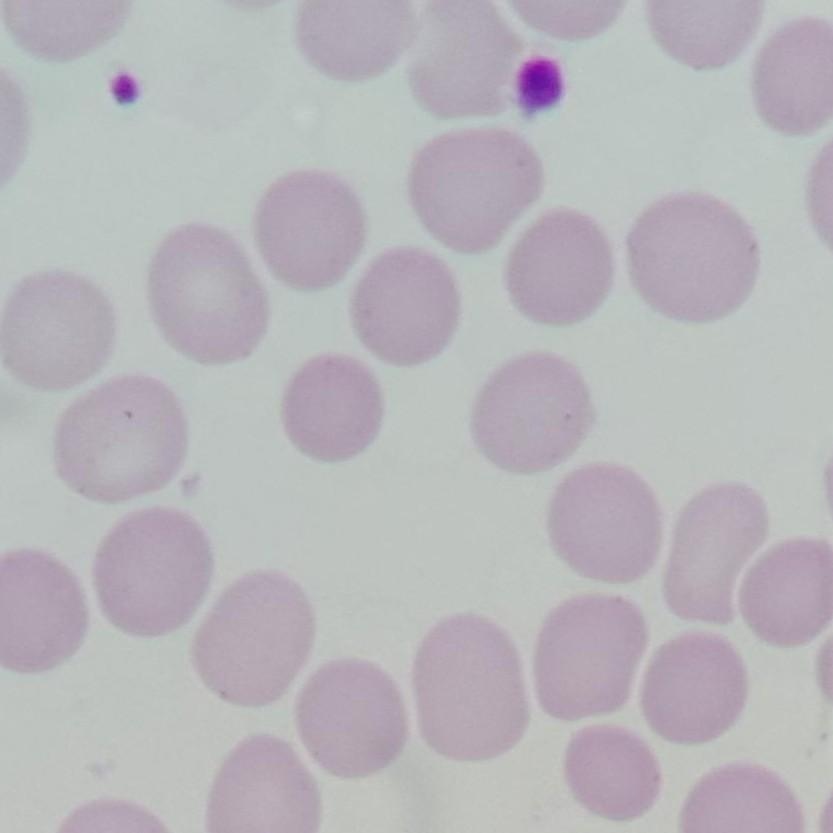Uninfected: (143, 219, 273, 367), (413, 614, 536, 765), (53, 374, 190, 504), (630, 191, 760, 323), (410, 126, 543, 255), (193, 566, 311, 711), (657, 479, 770, 627), (95, 506, 214, 641), (467, 349, 589, 480), (407, 0, 526, 127), (255, 167, 372, 296), (533, 589, 648, 720), (0, 274, 120, 391), (547, 461, 661, 582), (298, 654, 409, 777), (352, 246, 460, 370), (505, 207, 611, 329), (642, 631, 752, 748), (202, 731, 321, 833), (280, 347, 383, 462), (0, 544, 90, 675), (750, 11, 833, 143), (737, 536, 833, 647), (562, 721, 661, 820)
